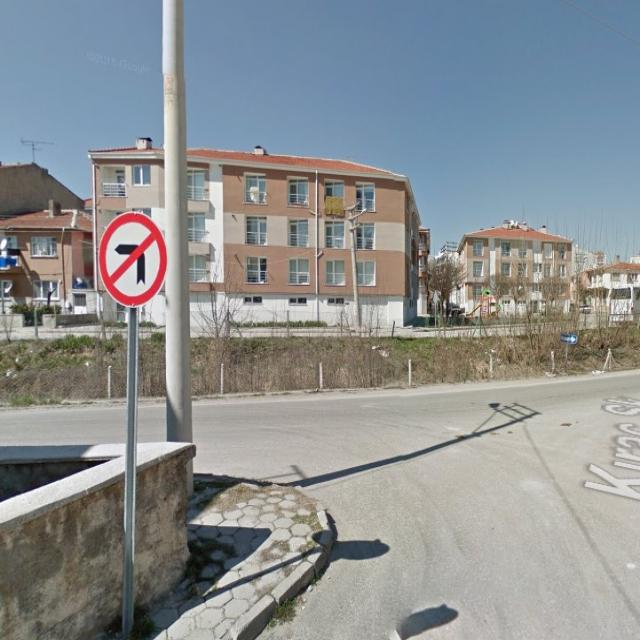soladonulmez: (98, 212, 167, 307)
